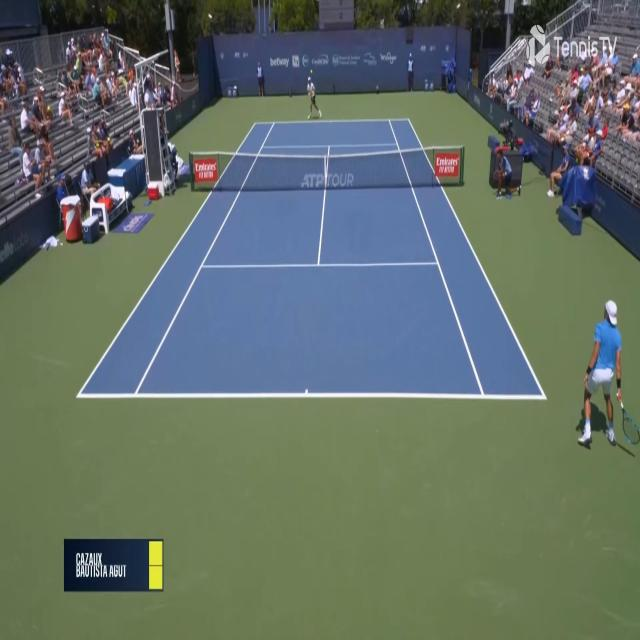tennis-player: (573, 296, 637, 454), (305, 70, 322, 121)
